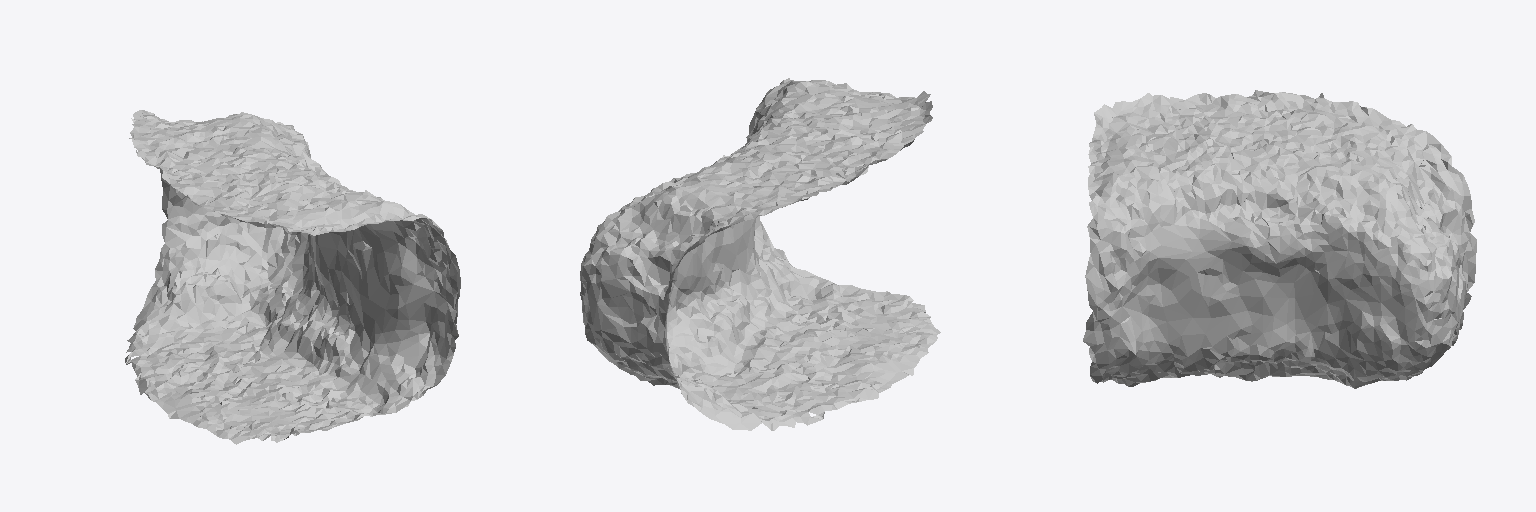
The model's file is trigger.obj.
The picture shows the model from 3 angles: view 1: azimuth 30°, elevation 25°; view 2: azimuth 150°, elevation 25°; view 3: azimuth 270°, elevation 25°; orthographic projection.
Parts seen in each view (by area): view 1: trigger_model.004; view 2: trigger_model.004; view 3: trigger_model.004.
Boxes of the visible parts, box(x1,y1,x2,y2) form: trigger_model.004: box(125, 110, 460, 444); trigger_model.004: box(580, 78, 940, 430); trigger_model.004: box(1083, 90, 1476, 388).
Size of the model in its own units: 0.0173 by 0.0164 by 0.0255.